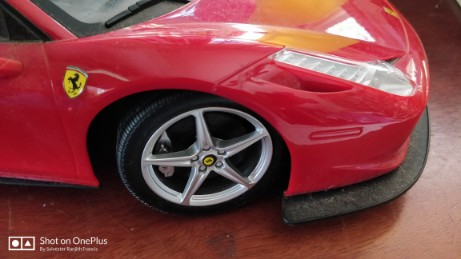unaligned_wheel: (111, 90, 287, 217)
